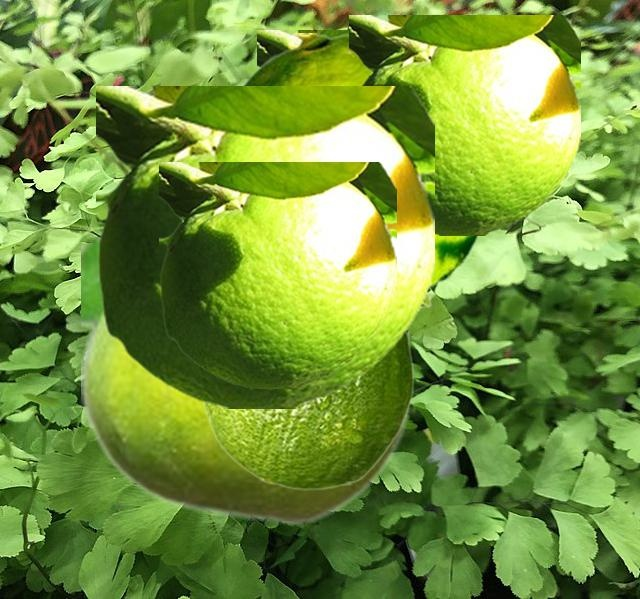dalandan: (96, 86, 433, 407), (81, 243, 411, 525), (238, 33, 482, 292), (159, 162, 395, 387), (349, 15, 579, 234), (201, 291, 431, 489), (257, 30, 348, 66)
